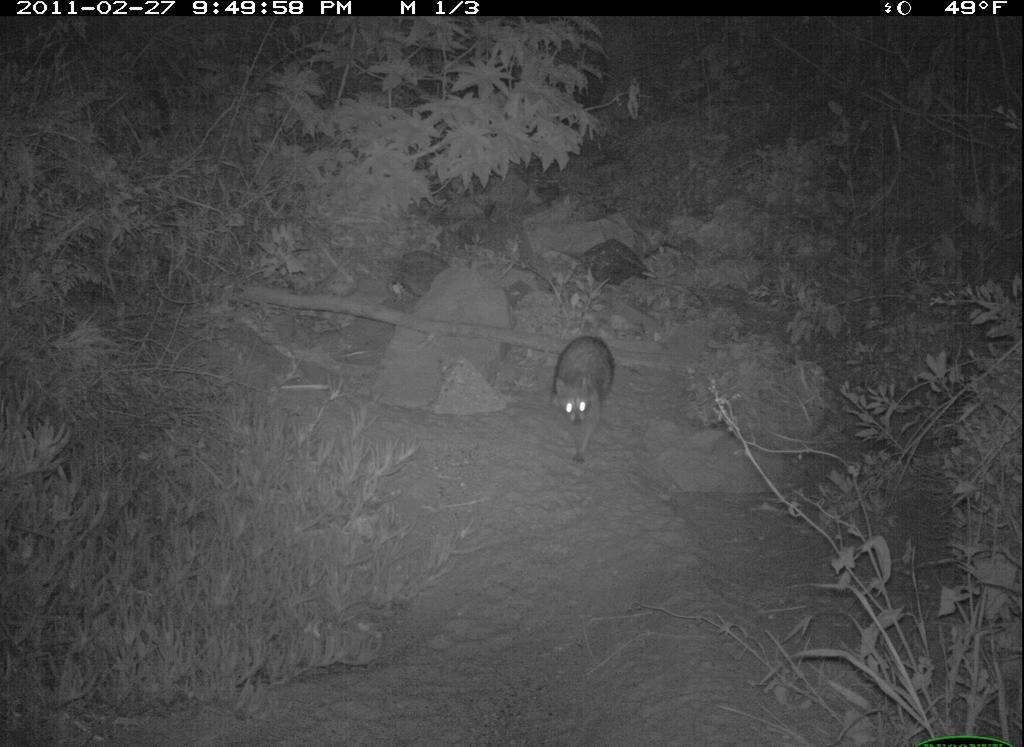raccoon: (547, 327, 624, 466)
